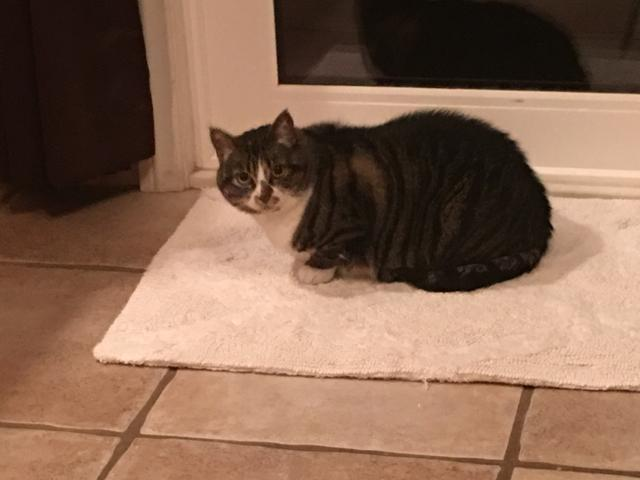playdoh: (210, 106, 553, 292)
